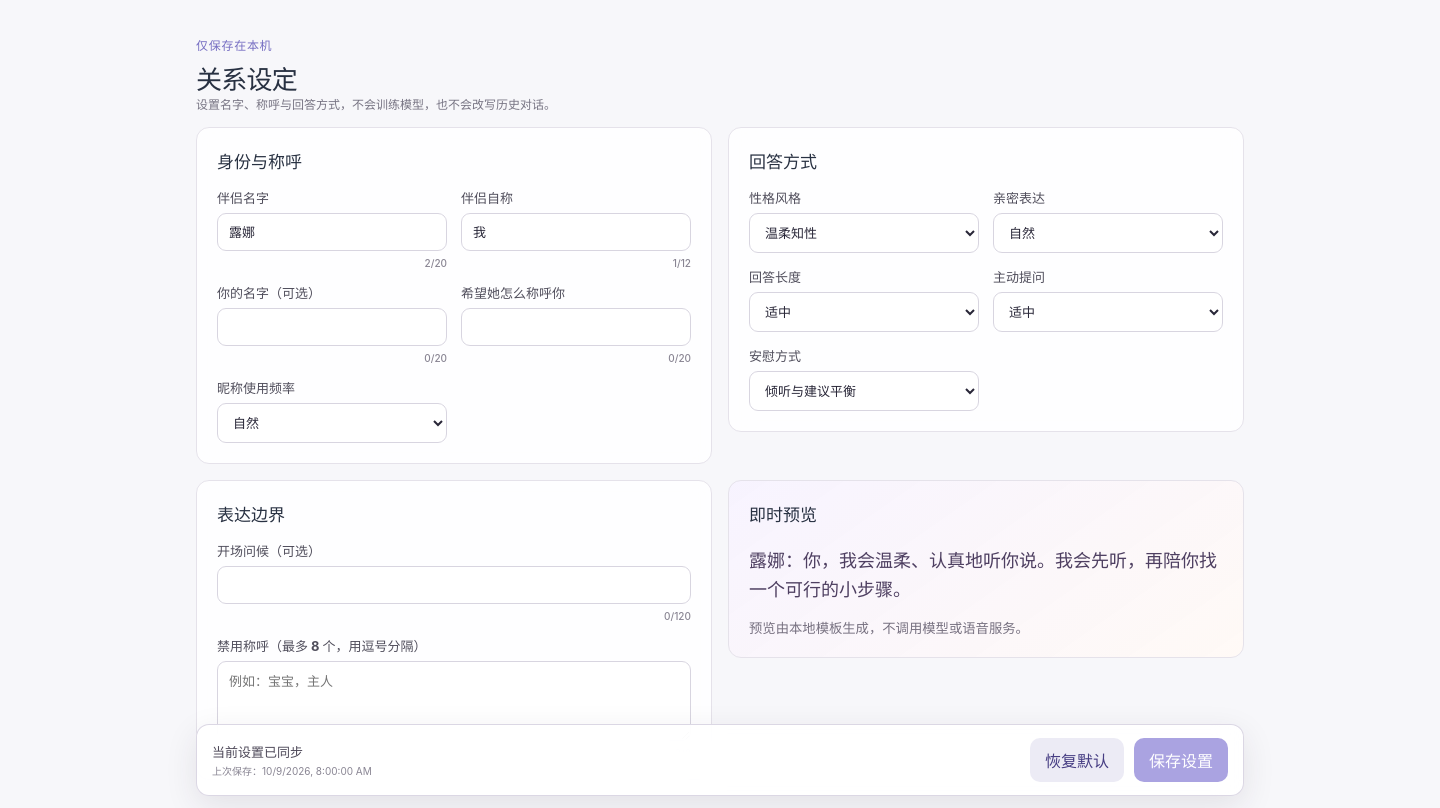
Test: RelationshipSettingsPage › keeps draft values when a save conflicts
The image size is (1440, 808).
Replace the text in the field labelled "伴侣名字" with "星夜" at [332, 232], box [217,213,447,251]
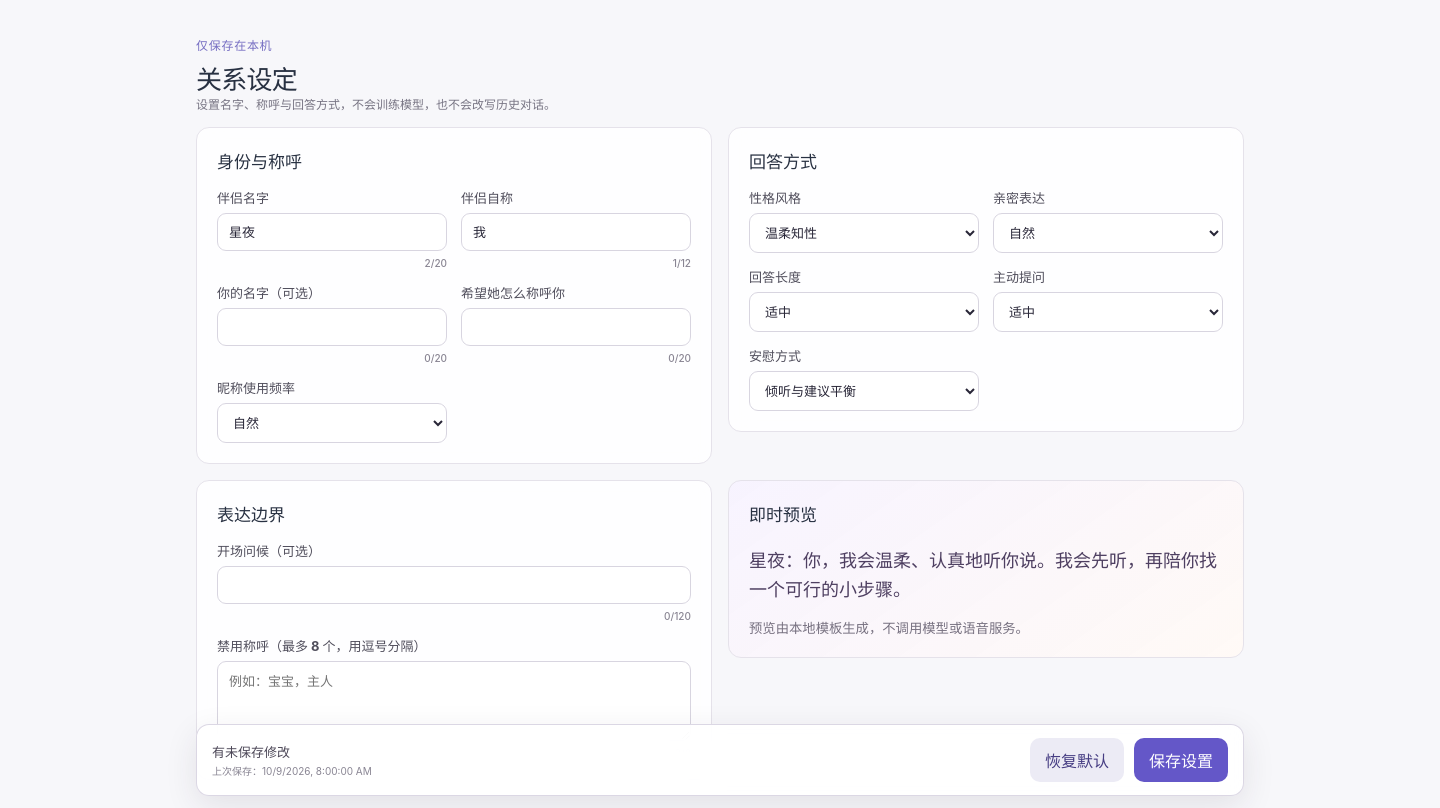
Click the button "保存设置".
click(1181, 760)  # box [1134,738,1228,782]
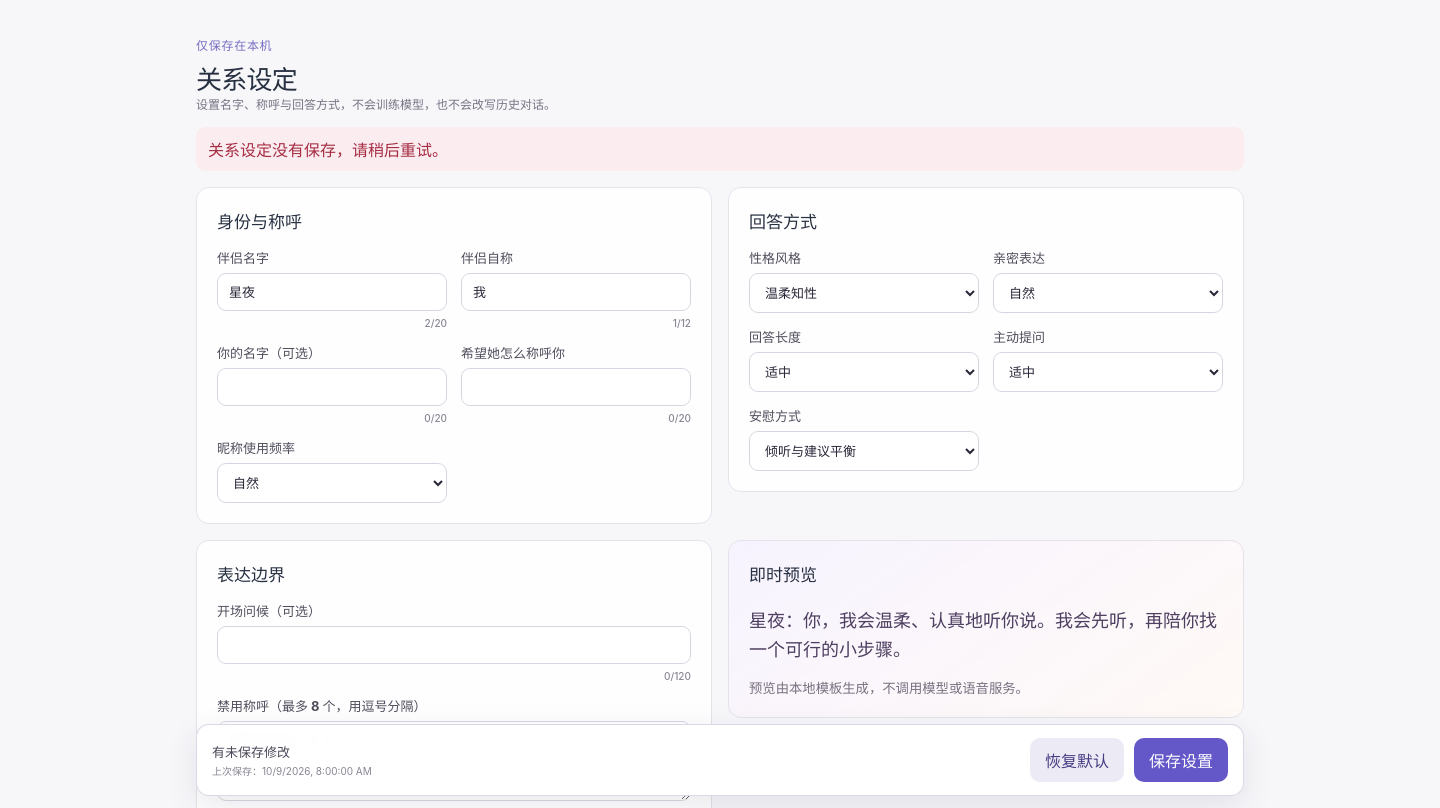
Expected: the message shows "没有保存", [208,140,448,160]
